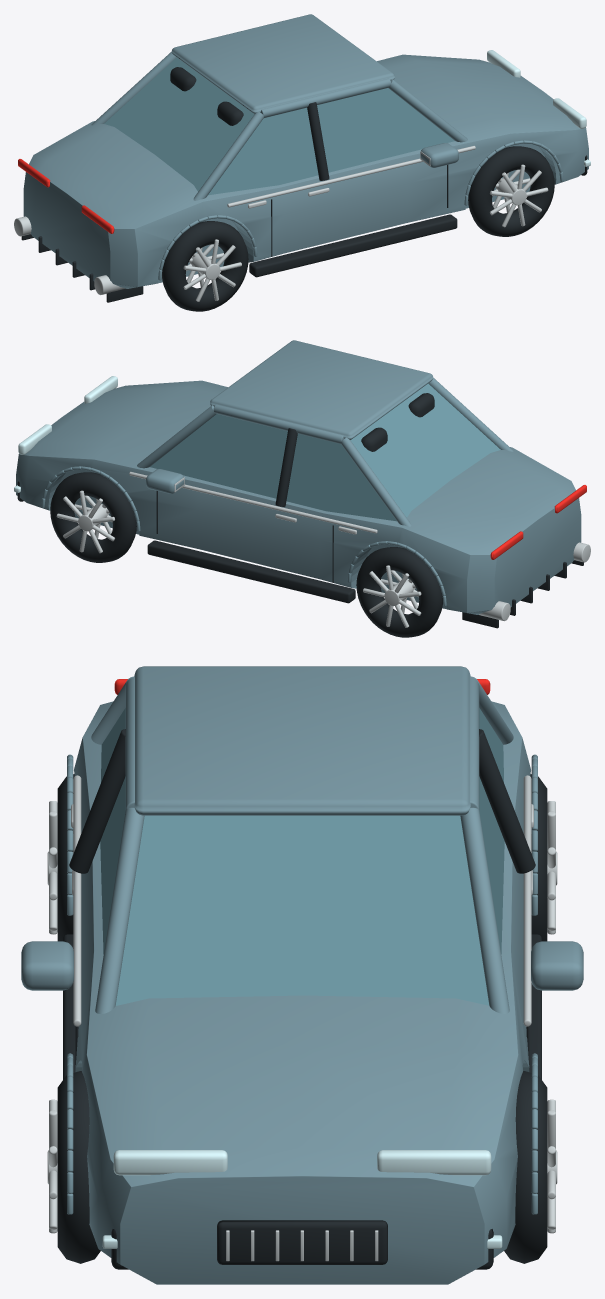
File: MetroSedan.fbx
The picture shows the model from 3 angles, top to bottom: view 1: azimuth 30°, elevation 25°; view 2: azimuth 150°, elevation 25°; view 3: azimuth 270°, elevation 25°; orthographic projection. The views are drawn at different scales.
Visible parts, largest first — view 1: BodyPaint, Glazing, TrimRubber, TrimRubber.001, TrimRubber.002, BrushedAlloy, BrushedAlloy.002, BrushedAlloy.001, Headlamp, Taillamp; view 2: BodyPaint, Glazing, TrimRubber, TrimRubber.003, TrimRubber.004, BrushedAlloy, BrushedAlloy.004, BrushedAlloy.003, Headlamp, Taillamp; view 3: BodyPaint, Glazing, TrimRubber, Headlamp, TrimRubber.002, TrimRubber.004, BrushedAlloy, TrimRubber.001, TrimRubber.003, BrushedAlloy.002, BrushedAlloy.004, BrushedAlloy.001 (+1 smaller).
Part boxes in pixels (box(x1,y1,x2,y2)): BodyPaint: box(23, 14, 588, 288); Glazing: box(104, 57, 454, 195); TrimRubber: box(21, 67, 587, 302); TrimRubber.001: box(162, 221, 248, 311); TrimRubber.002: box(468, 146, 554, 236); BrushedAlloy: box(14, 145, 475, 295); BrushedAlloy.002: box(490, 164, 548, 227); BrushedAlloy.001: box(183, 239, 241, 301); Headlamp: box(487, 50, 590, 166); Taillamp: box(18, 159, 114, 233); BodyPaint: box(16, 340, 581, 614); Glazing: box(150, 383, 500, 521); TrimRubber: box(17, 393, 583, 628); TrimRubber.003: box(356, 547, 442, 637); TrimRubber.004: box(50, 472, 136, 562); BrushedAlloy: box(129, 471, 590, 621); BrushedAlloy.004: box(56, 490, 114, 553); BrushedAlloy.003: box(363, 565, 421, 627); Headlamp: box(14, 376, 117, 492); Taillamp: box(490, 485, 586, 559); BodyPaint: box(21, 666, 583, 1284); Glazing: box(100, 708, 504, 1005); TrimRubber: box(63, 729, 541, 1269); Headlamp: box(102, 1150, 502, 1248); TrimRubber.002: box(57, 1071, 100, 1263); TrimRubber.004: box(504, 1071, 547, 1263); BrushedAlloy: box(71, 775, 533, 1261); TrimRubber.001: box(57, 774, 74, 941); TrimRubber.003: box(530, 774, 547, 941); BrushedAlloy.002: box(47, 1099, 57, 1233); BrushedAlloy.004: box(547, 1099, 557, 1233); BrushedAlloy.001: box(47, 801, 57, 934).
Bounding box in the file's own units: 516 × 178 × 256.
